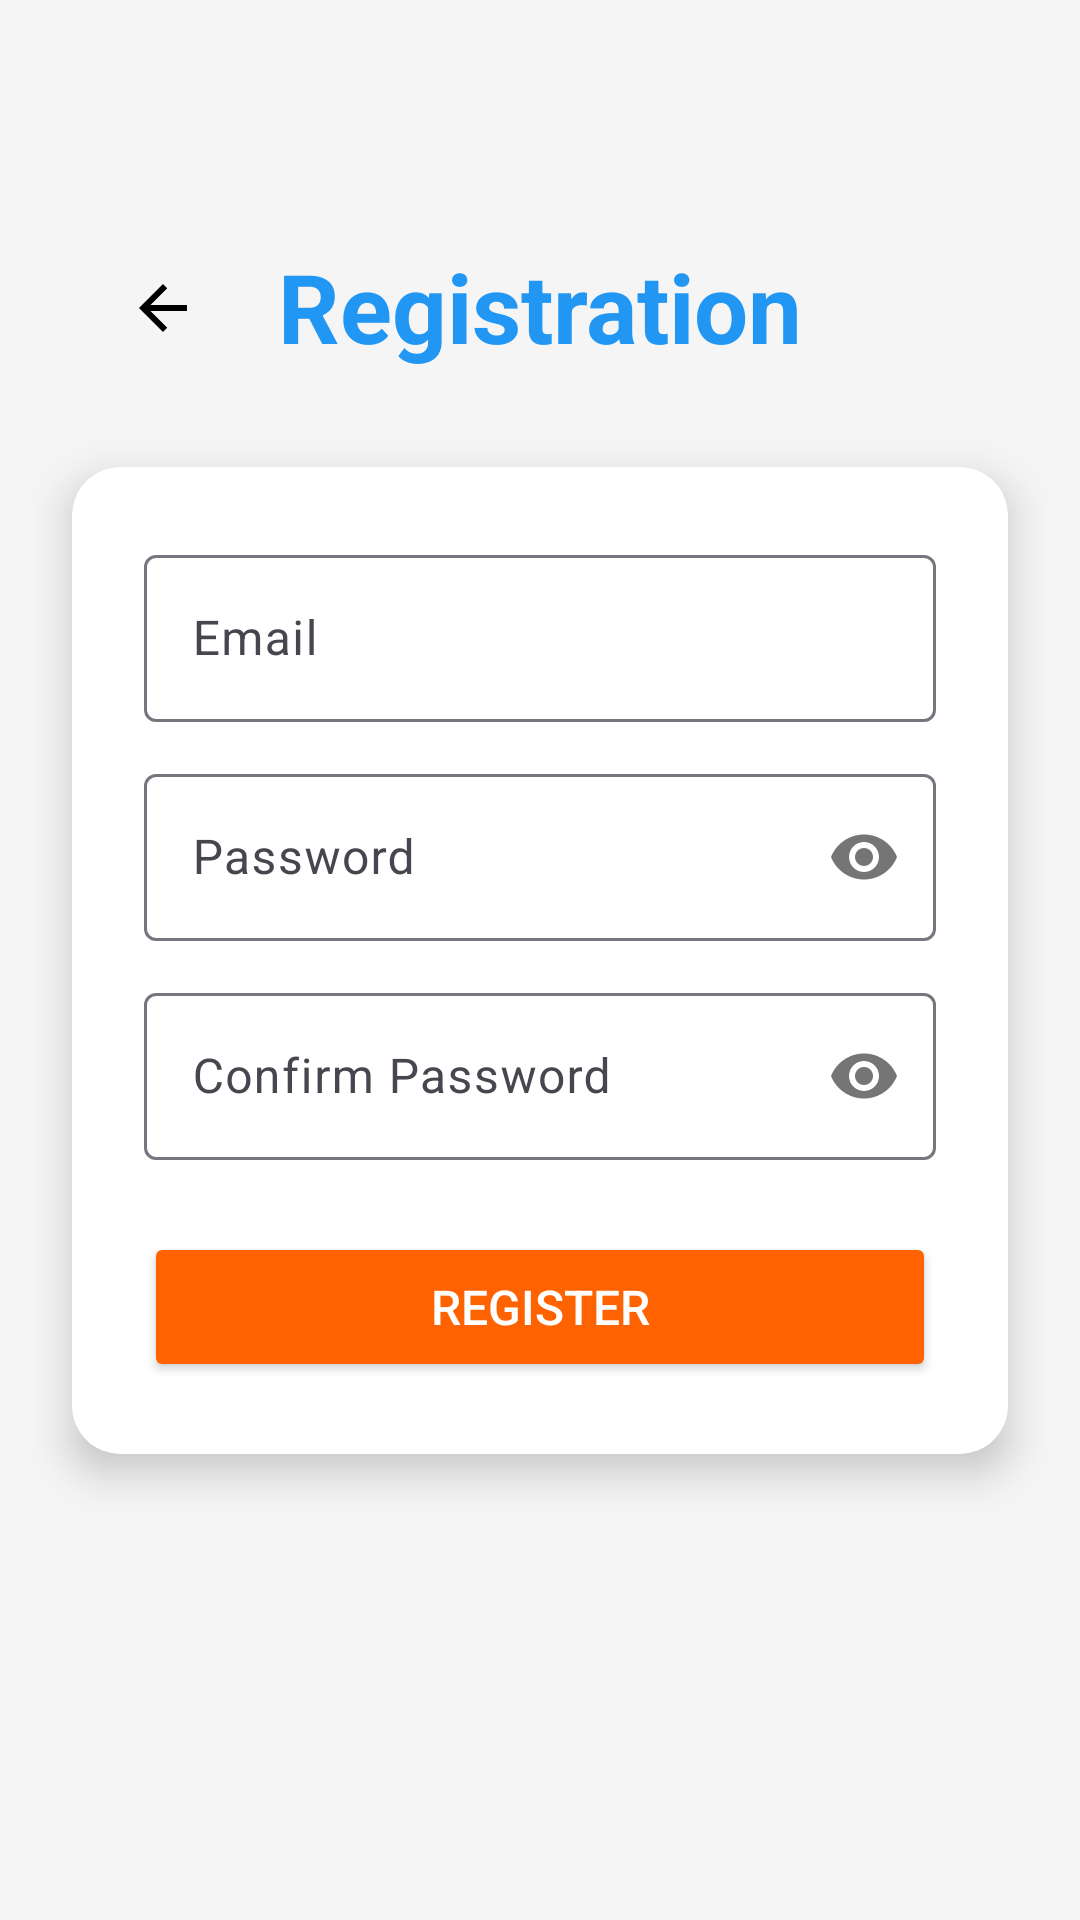

Where to tap for icons on this 1080 x 1920 app screen, as (x=x, y=y):
Back: (x=163, y=308)
